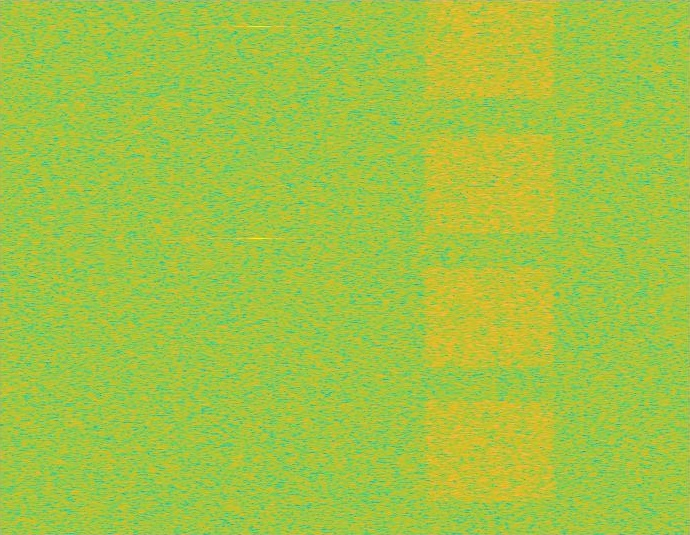5G: (421, 0, 559, 534)
Radar: (252, 0, 266, 534)
